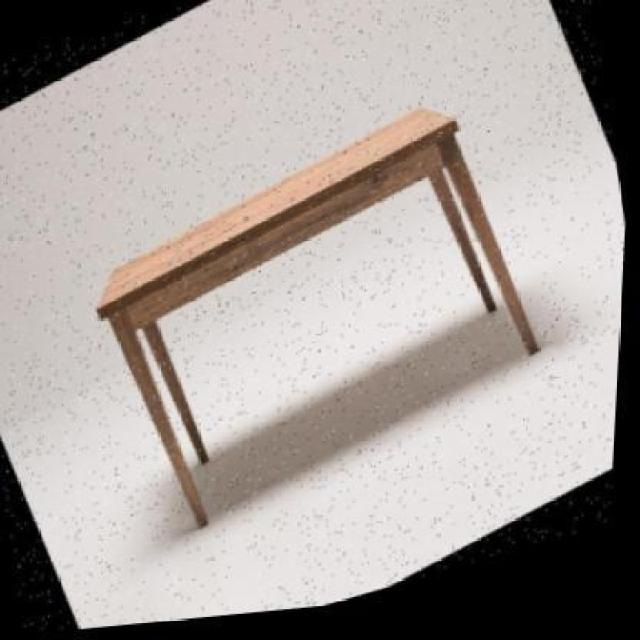tables: (0, 0, 628, 637)
